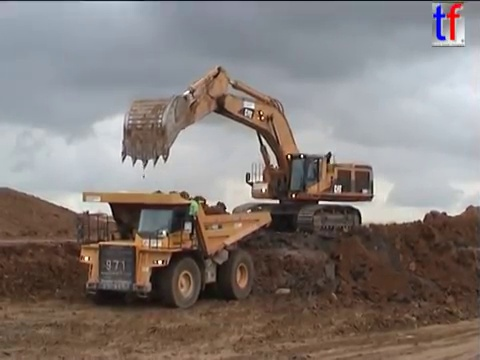excavator: (118, 63, 377, 240)
truck: (75, 188, 273, 309)
worker: (185, 193, 203, 239)
